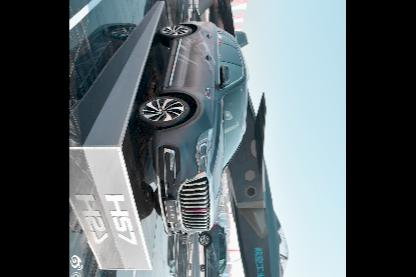F4: (204, 0, 291, 276)
